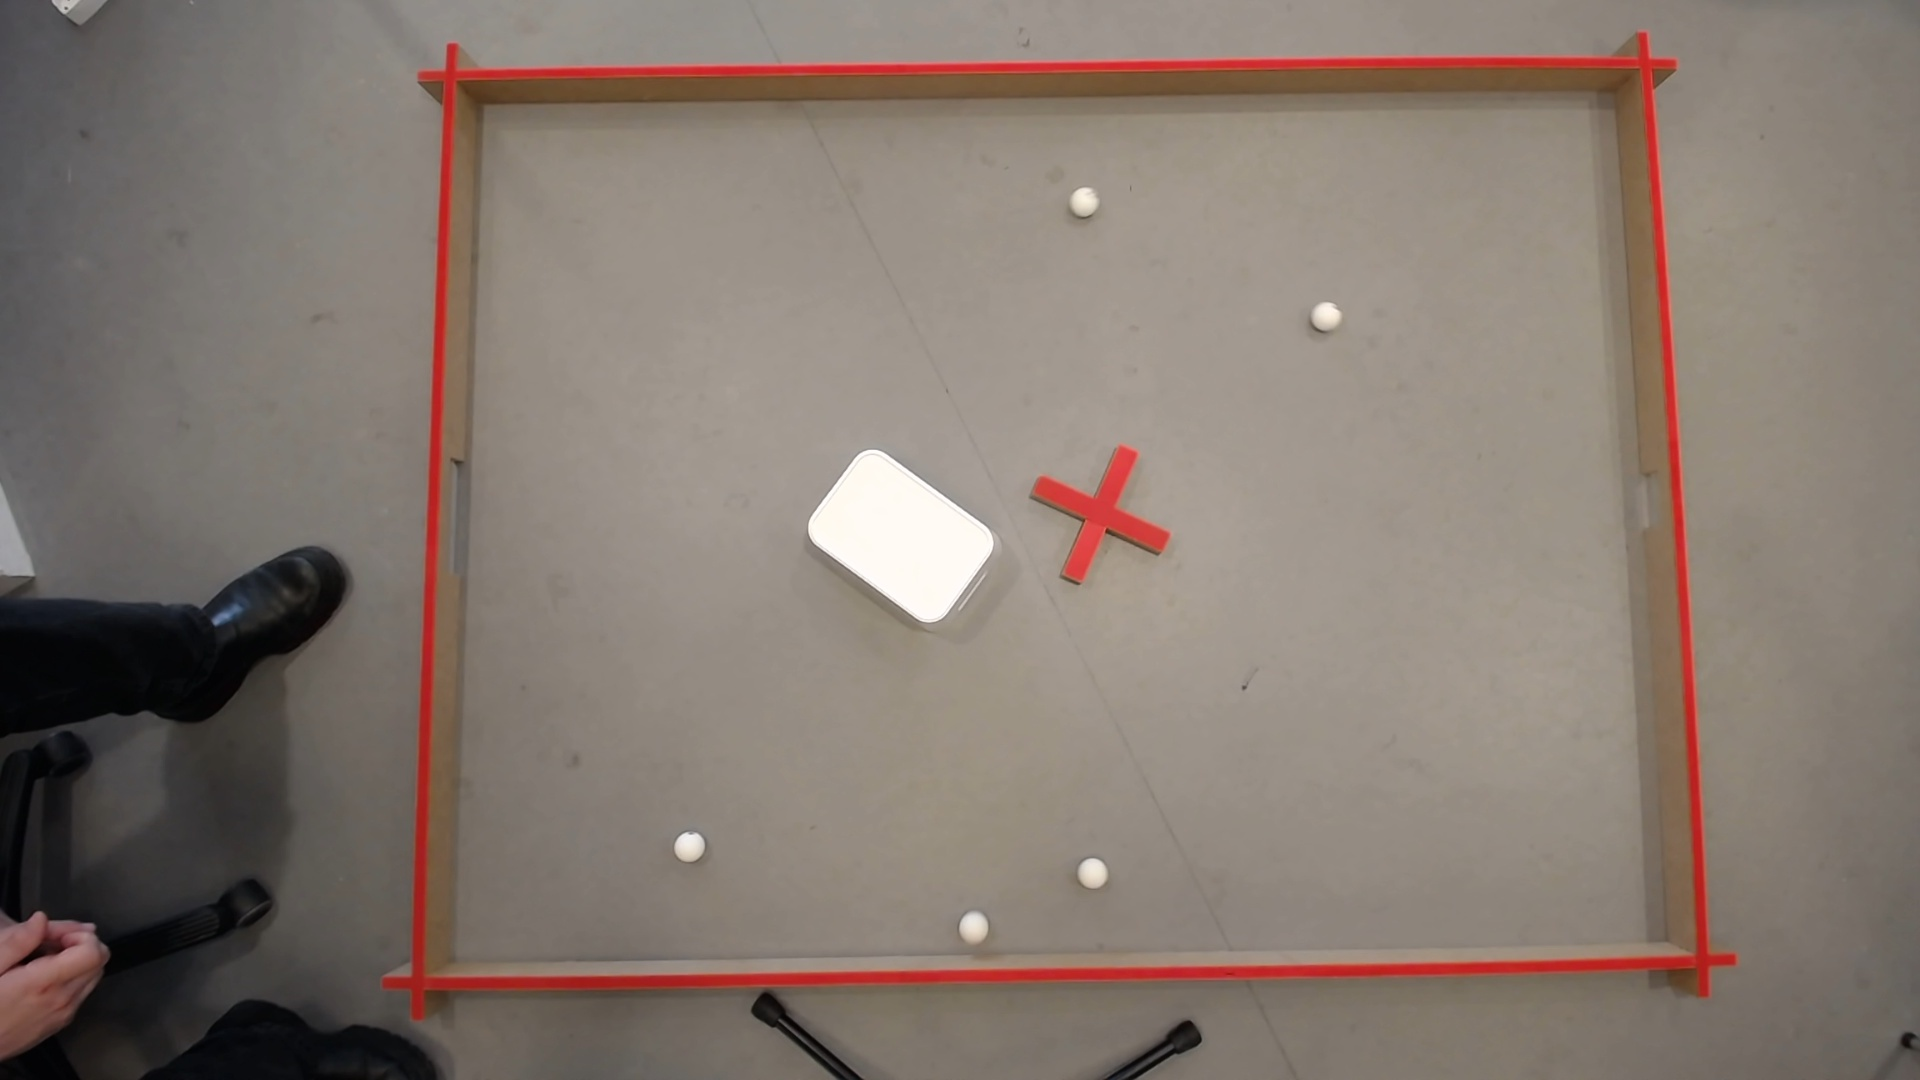balls: (796, 438, 1002, 632), (670, 827, 705, 860), (956, 907, 989, 940), (1076, 853, 1109, 886), (1311, 298, 1342, 327)
car: (1068, 183, 1097, 214)
